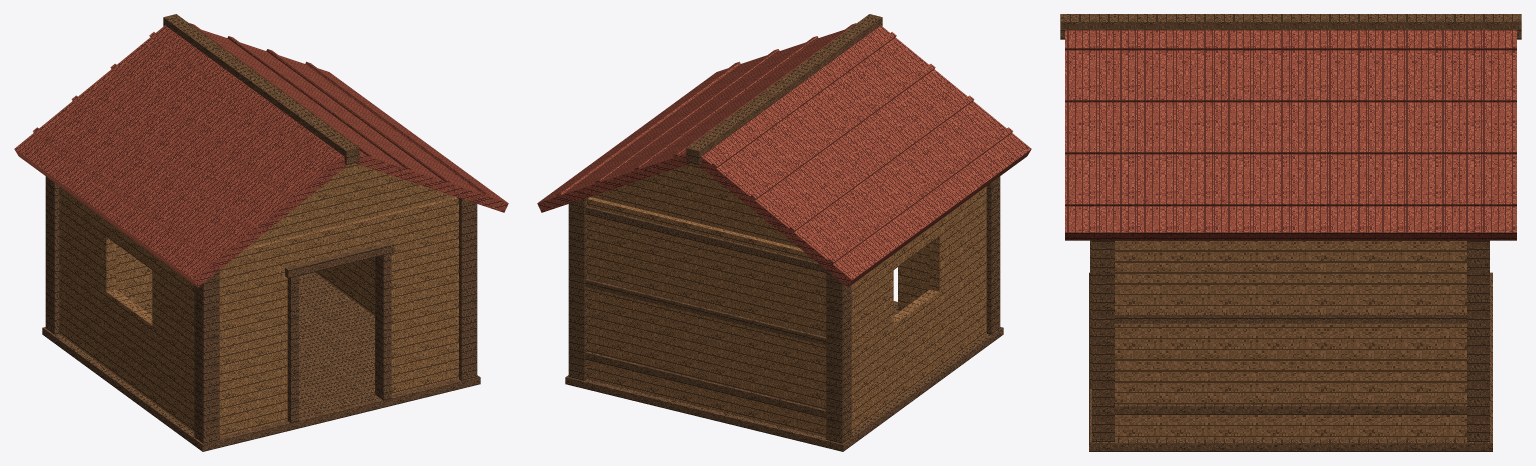
Rendered from shack_wood.glb.
3 views of the same model, side by side, from view 1: azimuth 30°, elevation 25°; view 2: azimuth 150°, elevation 25°; view 3: azimuth 270°, elevation 25° (orthographic). The views are drawn at different scales.
Visible parts, largest first — view 1: Body.002; view 2: Body.002; view 3: Body.002.
Boxes of the visible parts, x1,y1,x2,y2 form: Body.002: [14, 14, 508, 451]; Body.002: [537, 14, 1031, 451]; Body.002: [1060, 14, 1521, 451].
Size of the model in its own units: 4.77 by 4 by 4.8.
3 materials, 3 textured.
